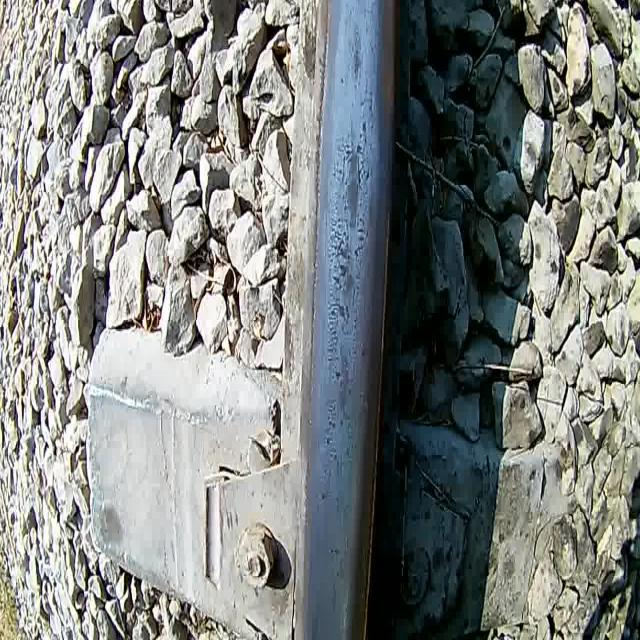Squats: (329, 88, 377, 332), (320, 333, 366, 485), (345, 15, 369, 92)
